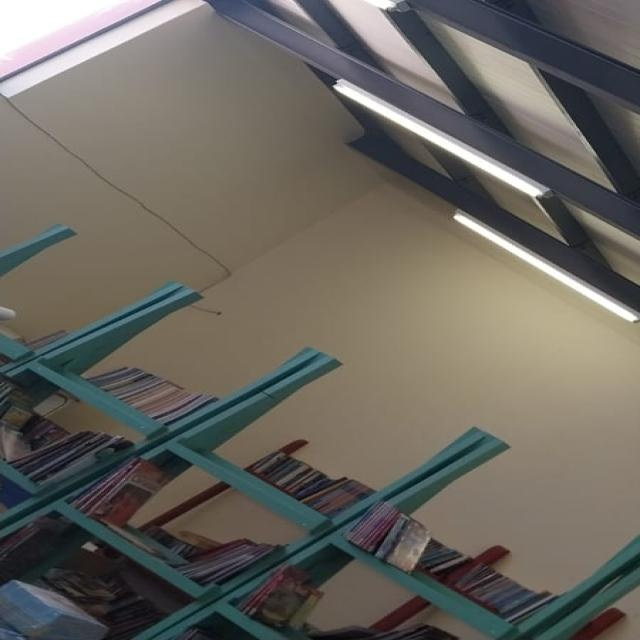fluorescent tube: (277, 56, 594, 218), (405, 204, 640, 374), (107, 0, 458, 42), (543, 0, 640, 84)
